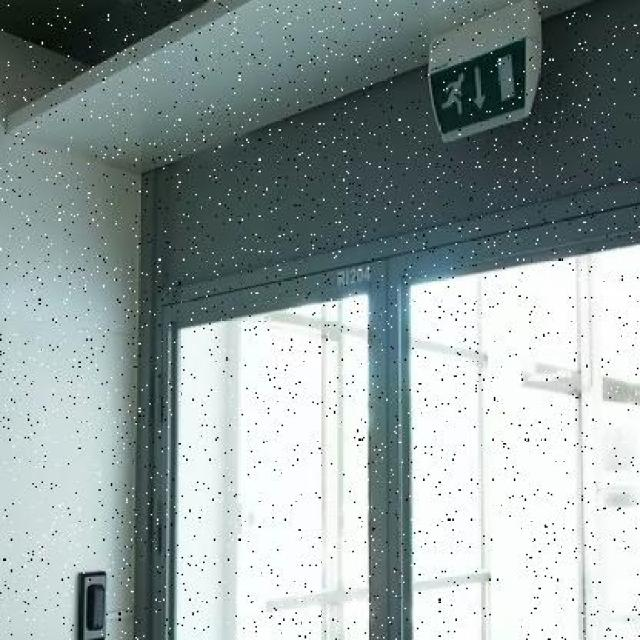person: (420, 6, 560, 152)
